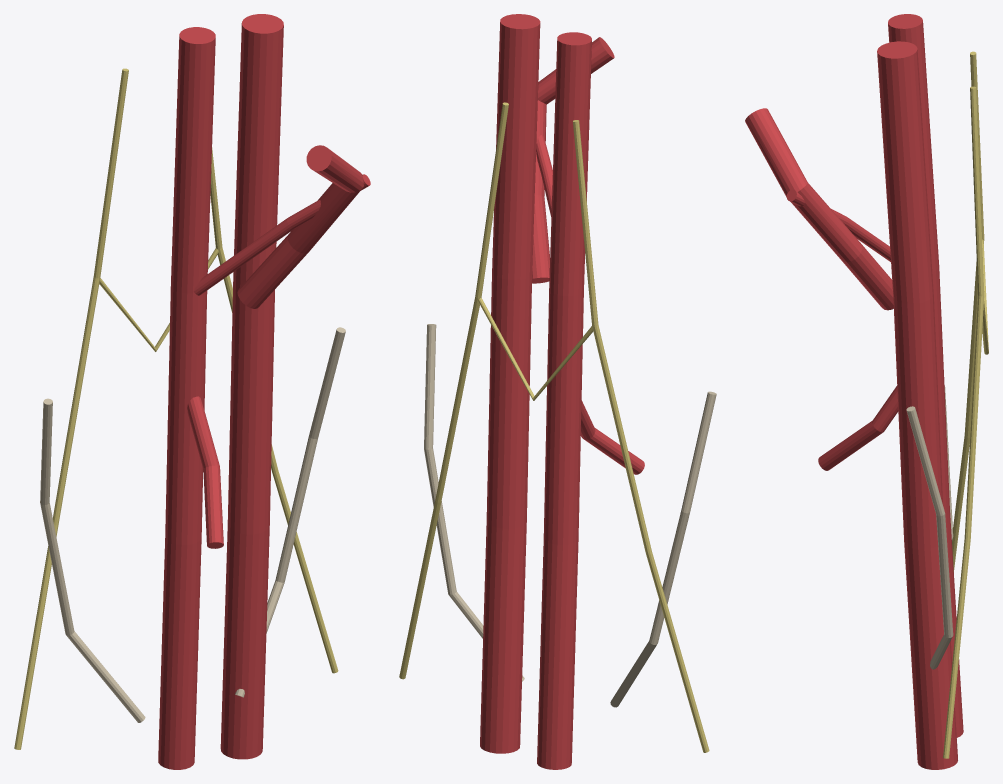
Rendered from dranmar_patient_vasculature_debug.glb.
3 renders of one model, left to right at view 1: azimuth 30°, elevation 25°; view 2: azimuth 150°, elevation 25°; view 3: azimuth 270°, elevation 25°, orthographic. The views are drawn at different scales.
Parts seen in each view (by area): view 1: major_vessels, nerves, ureters; view 2: major_vessels, nerves, ureters; view 3: major_vessels, nerves, ureters.
Boxes of the visible parts, box(x1,y1,x2,y2) form: major_vessels: box(158, 14, 370, 769); nerves: box(14, 68, 338, 749); ureters: box(40, 327, 345, 722); major_vessels: box(480, 14, 644, 769); nerves: box(399, 102, 709, 752); ureters: box(424, 324, 716, 707); major_vessels: box(745, 14, 963, 769); nerves: box(943, 51, 988, 758); ureters: box(906, 386, 953, 669).
Size of the model in its own units: 0.1323 by 0.2909 by 0.0901.
